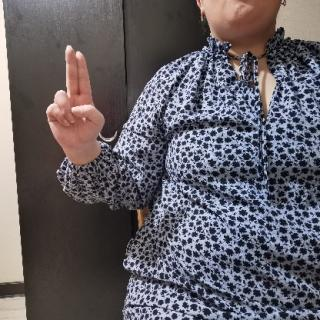TA: (45, 41, 109, 153)
